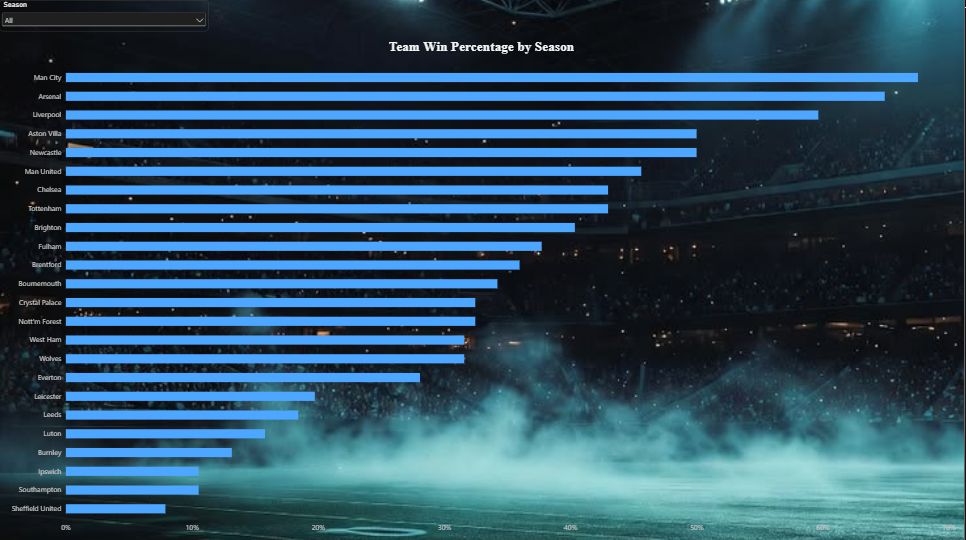

Layout of this report page (visuals, bound fields, positions):
{"tool":"powerbi","page":{"name":"Team Win%","canvas":[1920,1080],"ordinal":5},"visuals":[{"type":"clusteredBarChart","title":"Team Win Percentage by Season","fields":{"Category":["TeamPerformance.Team"],"Y":["TeamPerformance.Team Win %"]},"box":[0,62.2,1920,1017.2],"z":0},{"type":"slicer","fields":{"Values":["EPL_ALL_SEASON.Season"]},"box":[0,0,417.8,62.2],"z":1}]}

Visuals, with their boxes in screenshot pixels (x1, y1, x2, y2), scaled from the page's 1920x1080 canvas onto the 966x540 screenshot:
"Team Win Percentage by Season" clusteredBarChart: box(0, 31, 965, 539)
slicer - EPL_ALL_SEASON.Season: box(0, 0, 210, 31)
